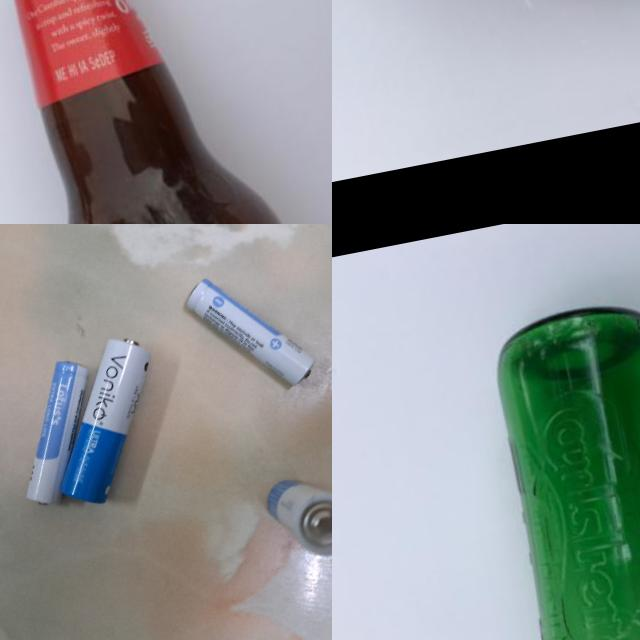bateria: (35, 331, 179, 511), (182, 258, 318, 402), (0, 355, 116, 508), (262, 469, 332, 565)
garrafa de vidro: (0, 0, 307, 224), (479, 295, 640, 640)
